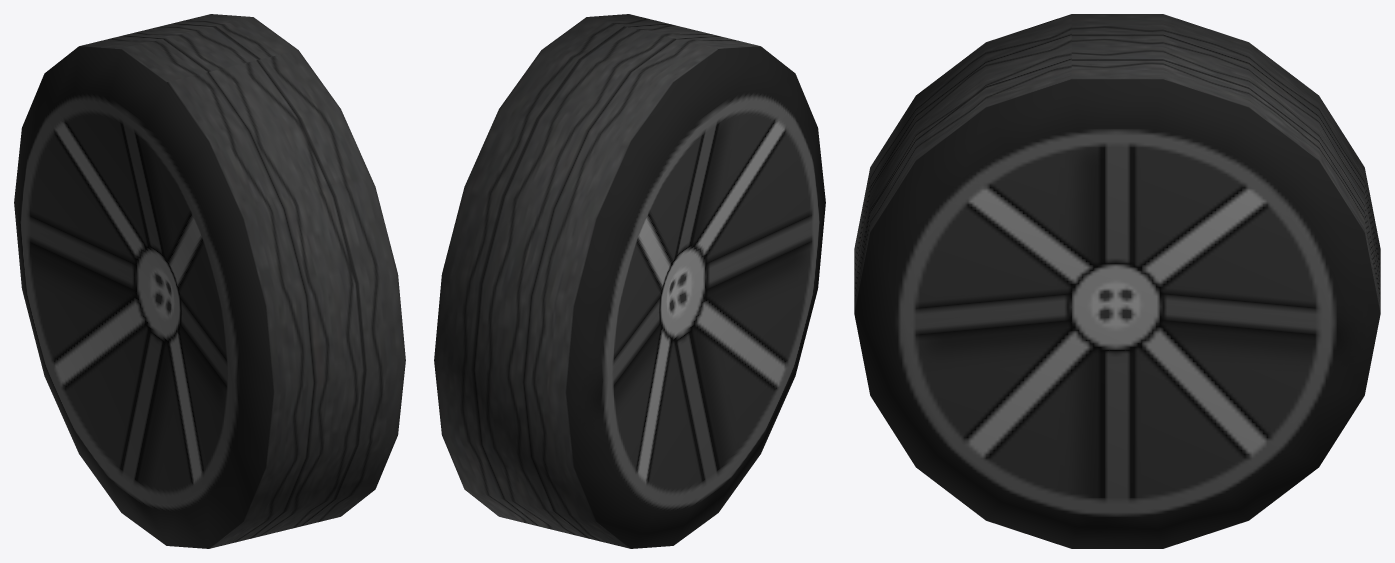
File: wheel.obj
3 views of the same model, side by side, from view 1: azimuth 30°, elevation 25°; view 2: azimuth 150°, elevation 25°; view 3: azimuth 270°, elevation 25° (orthographic).
Visible parts, largest first — view 1: wheel_Cylinder01x.018; view 2: wheel_Cylinder01x.018; view 3: wheel_Cylinder01x.018.
Part boxes in pixels (x1=…): wheel_Cylinder01x.018: x1=14, y1=14, x2=405, y2=548; wheel_Cylinder01x.018: x1=434, y1=14, x2=825, y2=548; wheel_Cylinder01x.018: x1=854, y1=14, x2=1380, y2=548.
Bounding box in the file's own units: 0.7576 × 2 × 2.03.
Materials: 1 (1 with a texture image).
